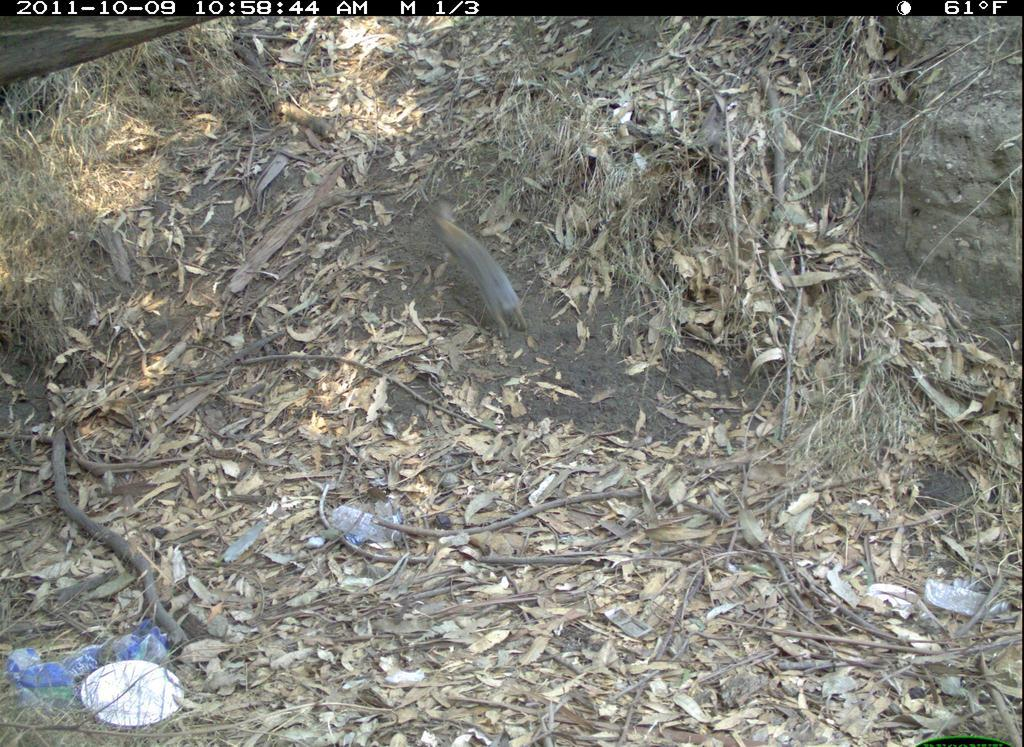rabbit: (420, 204, 543, 337)
